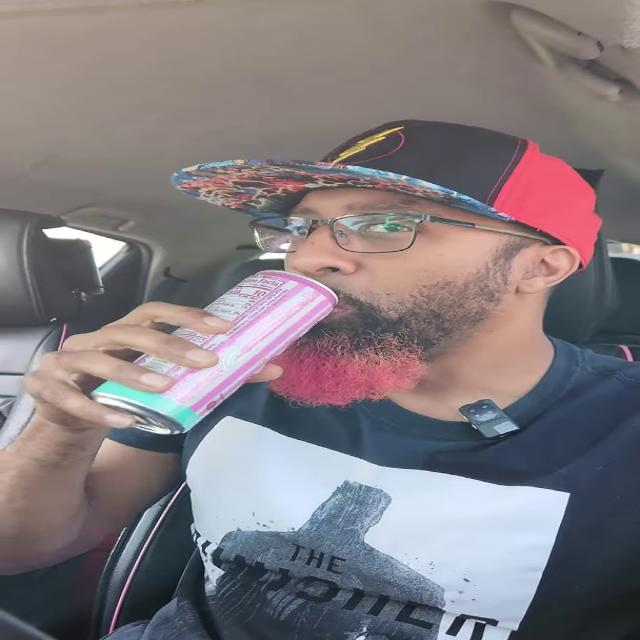Can: (87, 269, 340, 432)
Hand: (20, 297, 288, 446)
Mouth: (286, 292, 361, 317)
